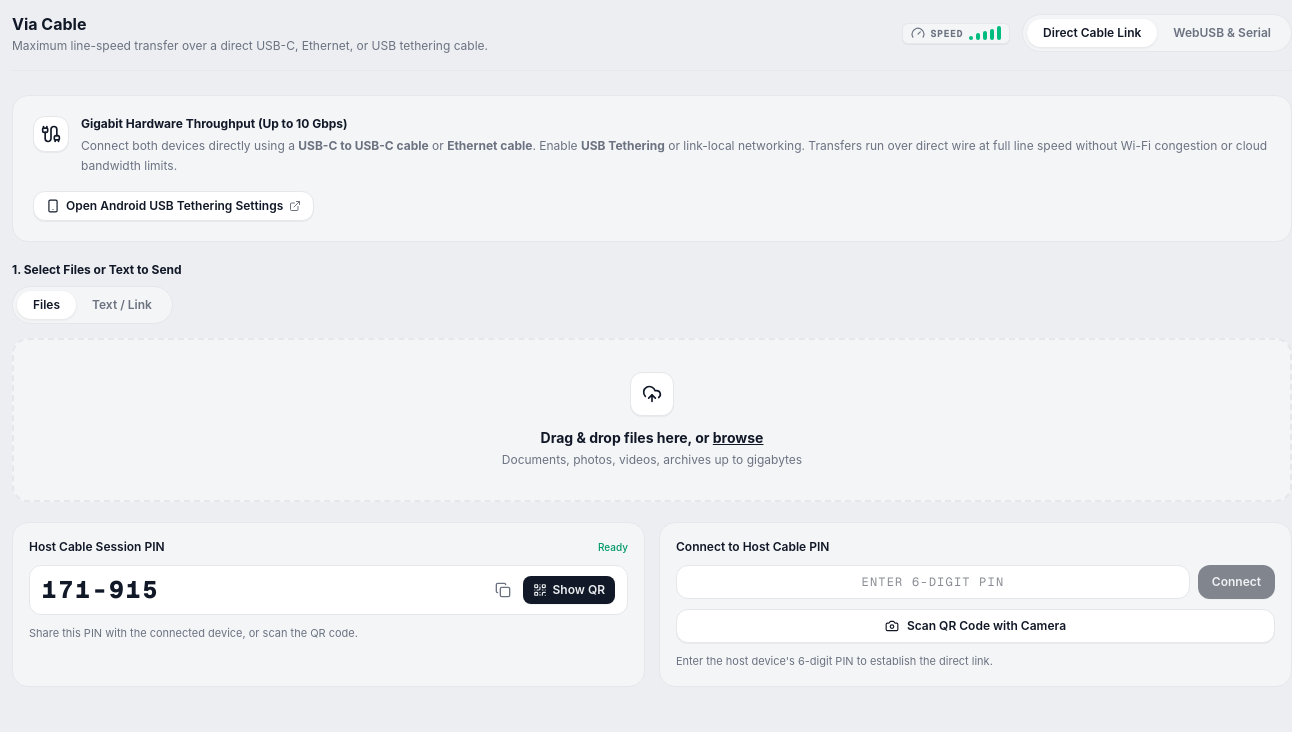
Test case: CableTransferCard Component › should toggle to WebUSB & Serial tab when clicked
Click the tab "WebUSB & Serial": (1222, 33) [1157,19,1287,47]
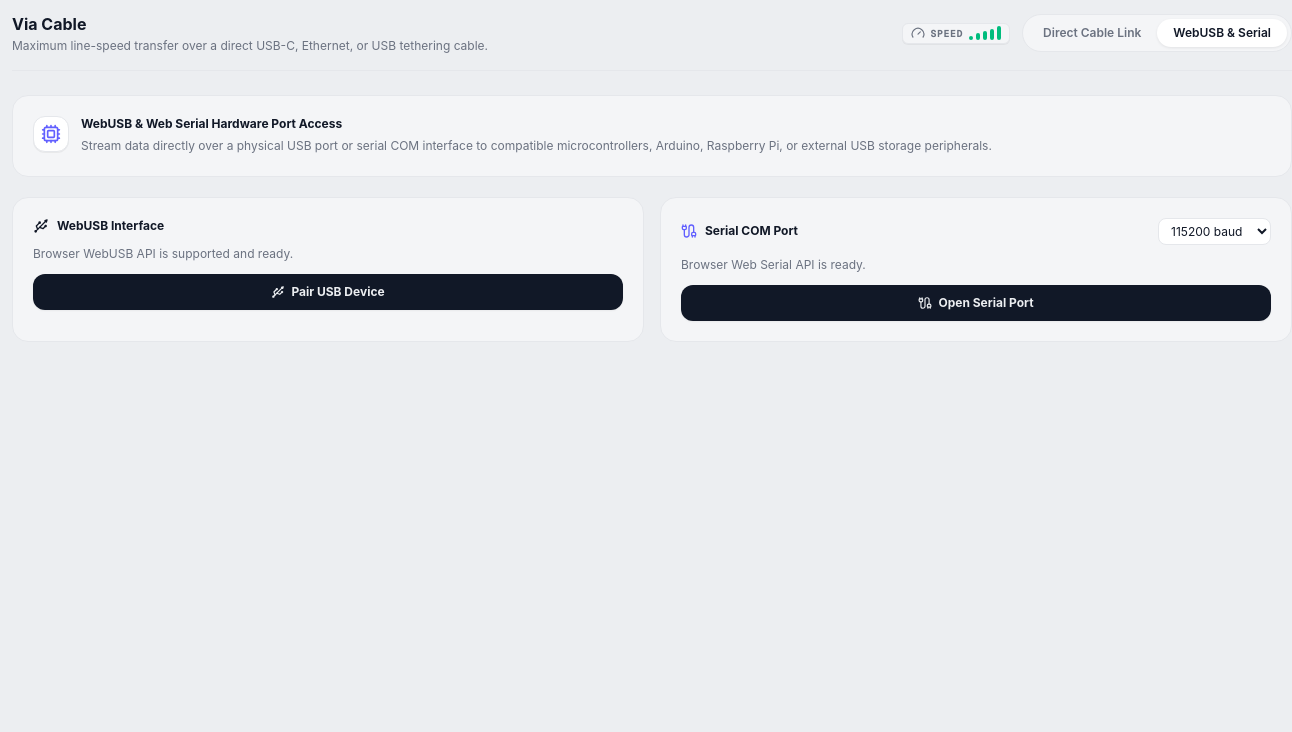
Check: the text "WebUSB Interface" is shown, box [57,218,164,234]
Check: the text "Serial COM Port" is shown, box [705,223,798,239]
